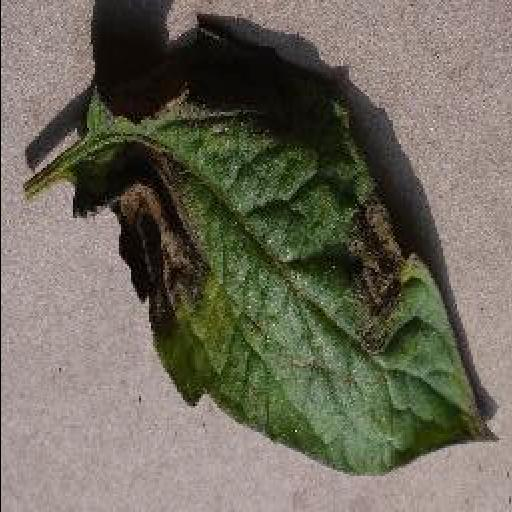disease_tomato: (74, 76, 500, 478)
